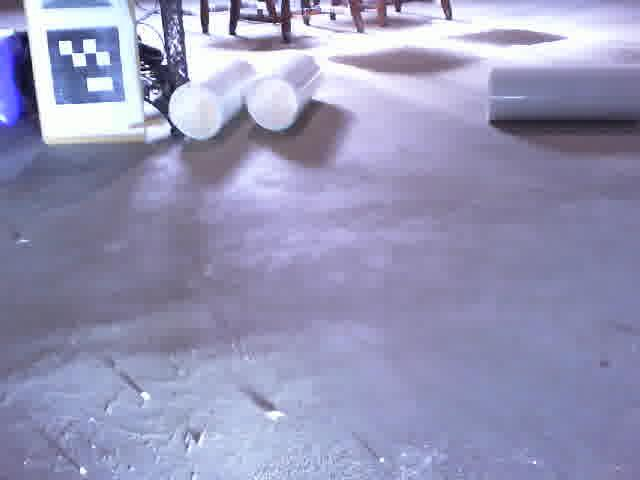coral: (479, 57, 640, 129), (165, 53, 257, 146), (242, 48, 327, 136)
